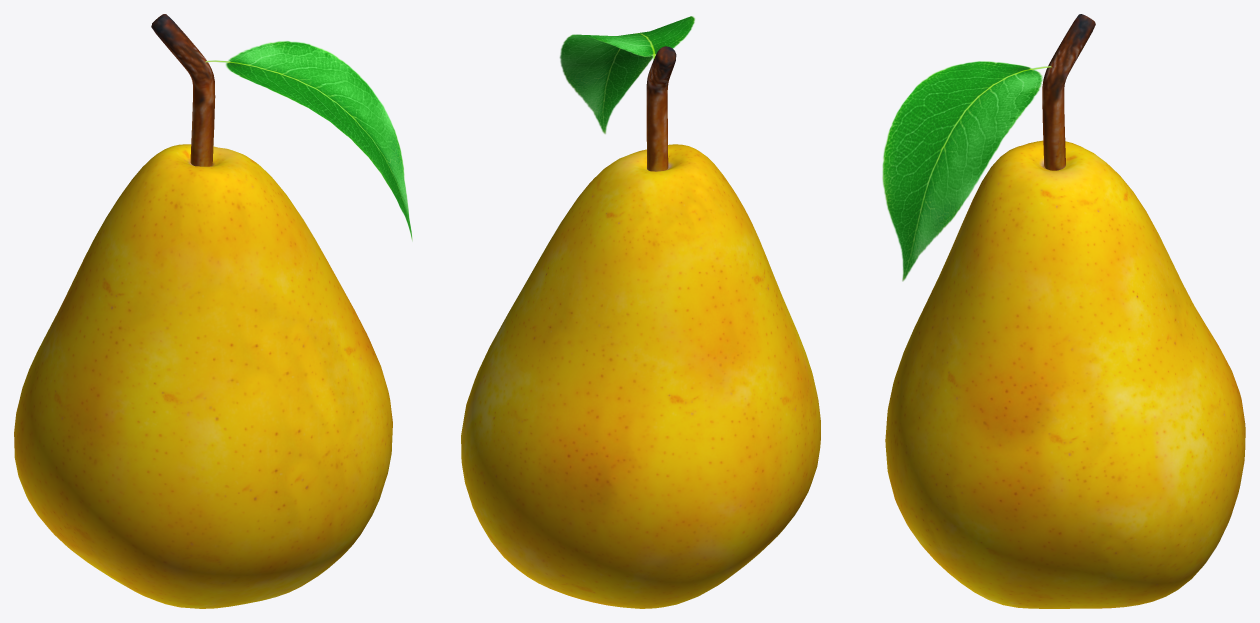
Rendered from pear_1.glb.
3 renders of one model, left to right at view 1: azimuth 30°, elevation 25°; view 2: azimuth 150°, elevation 25°; view 3: azimuth 270°, elevation 25°, orthographic. The views are drawn at different scales.
Parts seen in each view (by area): view 1: yellow.002, leaf.014; view 2: yellow.002, leaf.014; view 3: yellow.002, leaf.014.
Part boxes in pixels (x1,y1,x2,y2): yellow.002: [14, 14, 392, 608]; leaf.014: [205, 41, 412, 240]; yellow.002: [461, 46, 820, 608]; leaf.014: [560, 16, 694, 133]; yellow.002: [885, 14, 1245, 608]; leaf.014: [882, 61, 1051, 281].
Size of the model in its own units: 0.0641 by 0.1056 by 0.0687.
2 materials, 2 textured.
